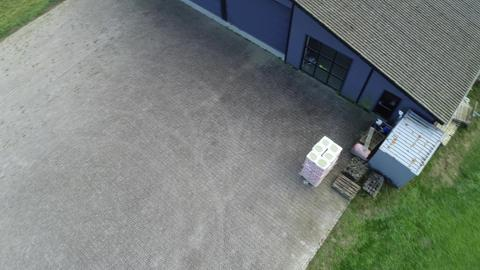RockwoolPallet: (300, 136, 343, 188)
